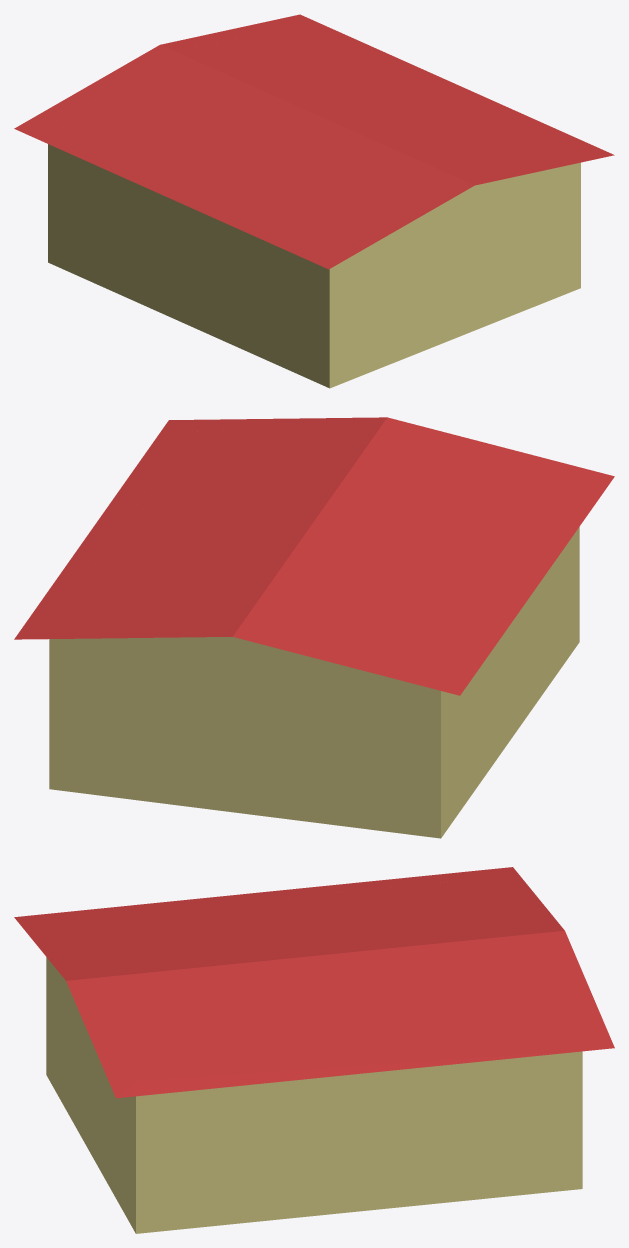
3 views of the same model, one above another, from view 1: azimuth 30°, elevation 25°; view 2: azimuth 150°, elevation 25°; view 3: azimuth 270°, elevation 25° (orthographic). The views are drawn at different scales.
Bounding box in the file's own units: 20.4 × 22.4 × 7.32.
